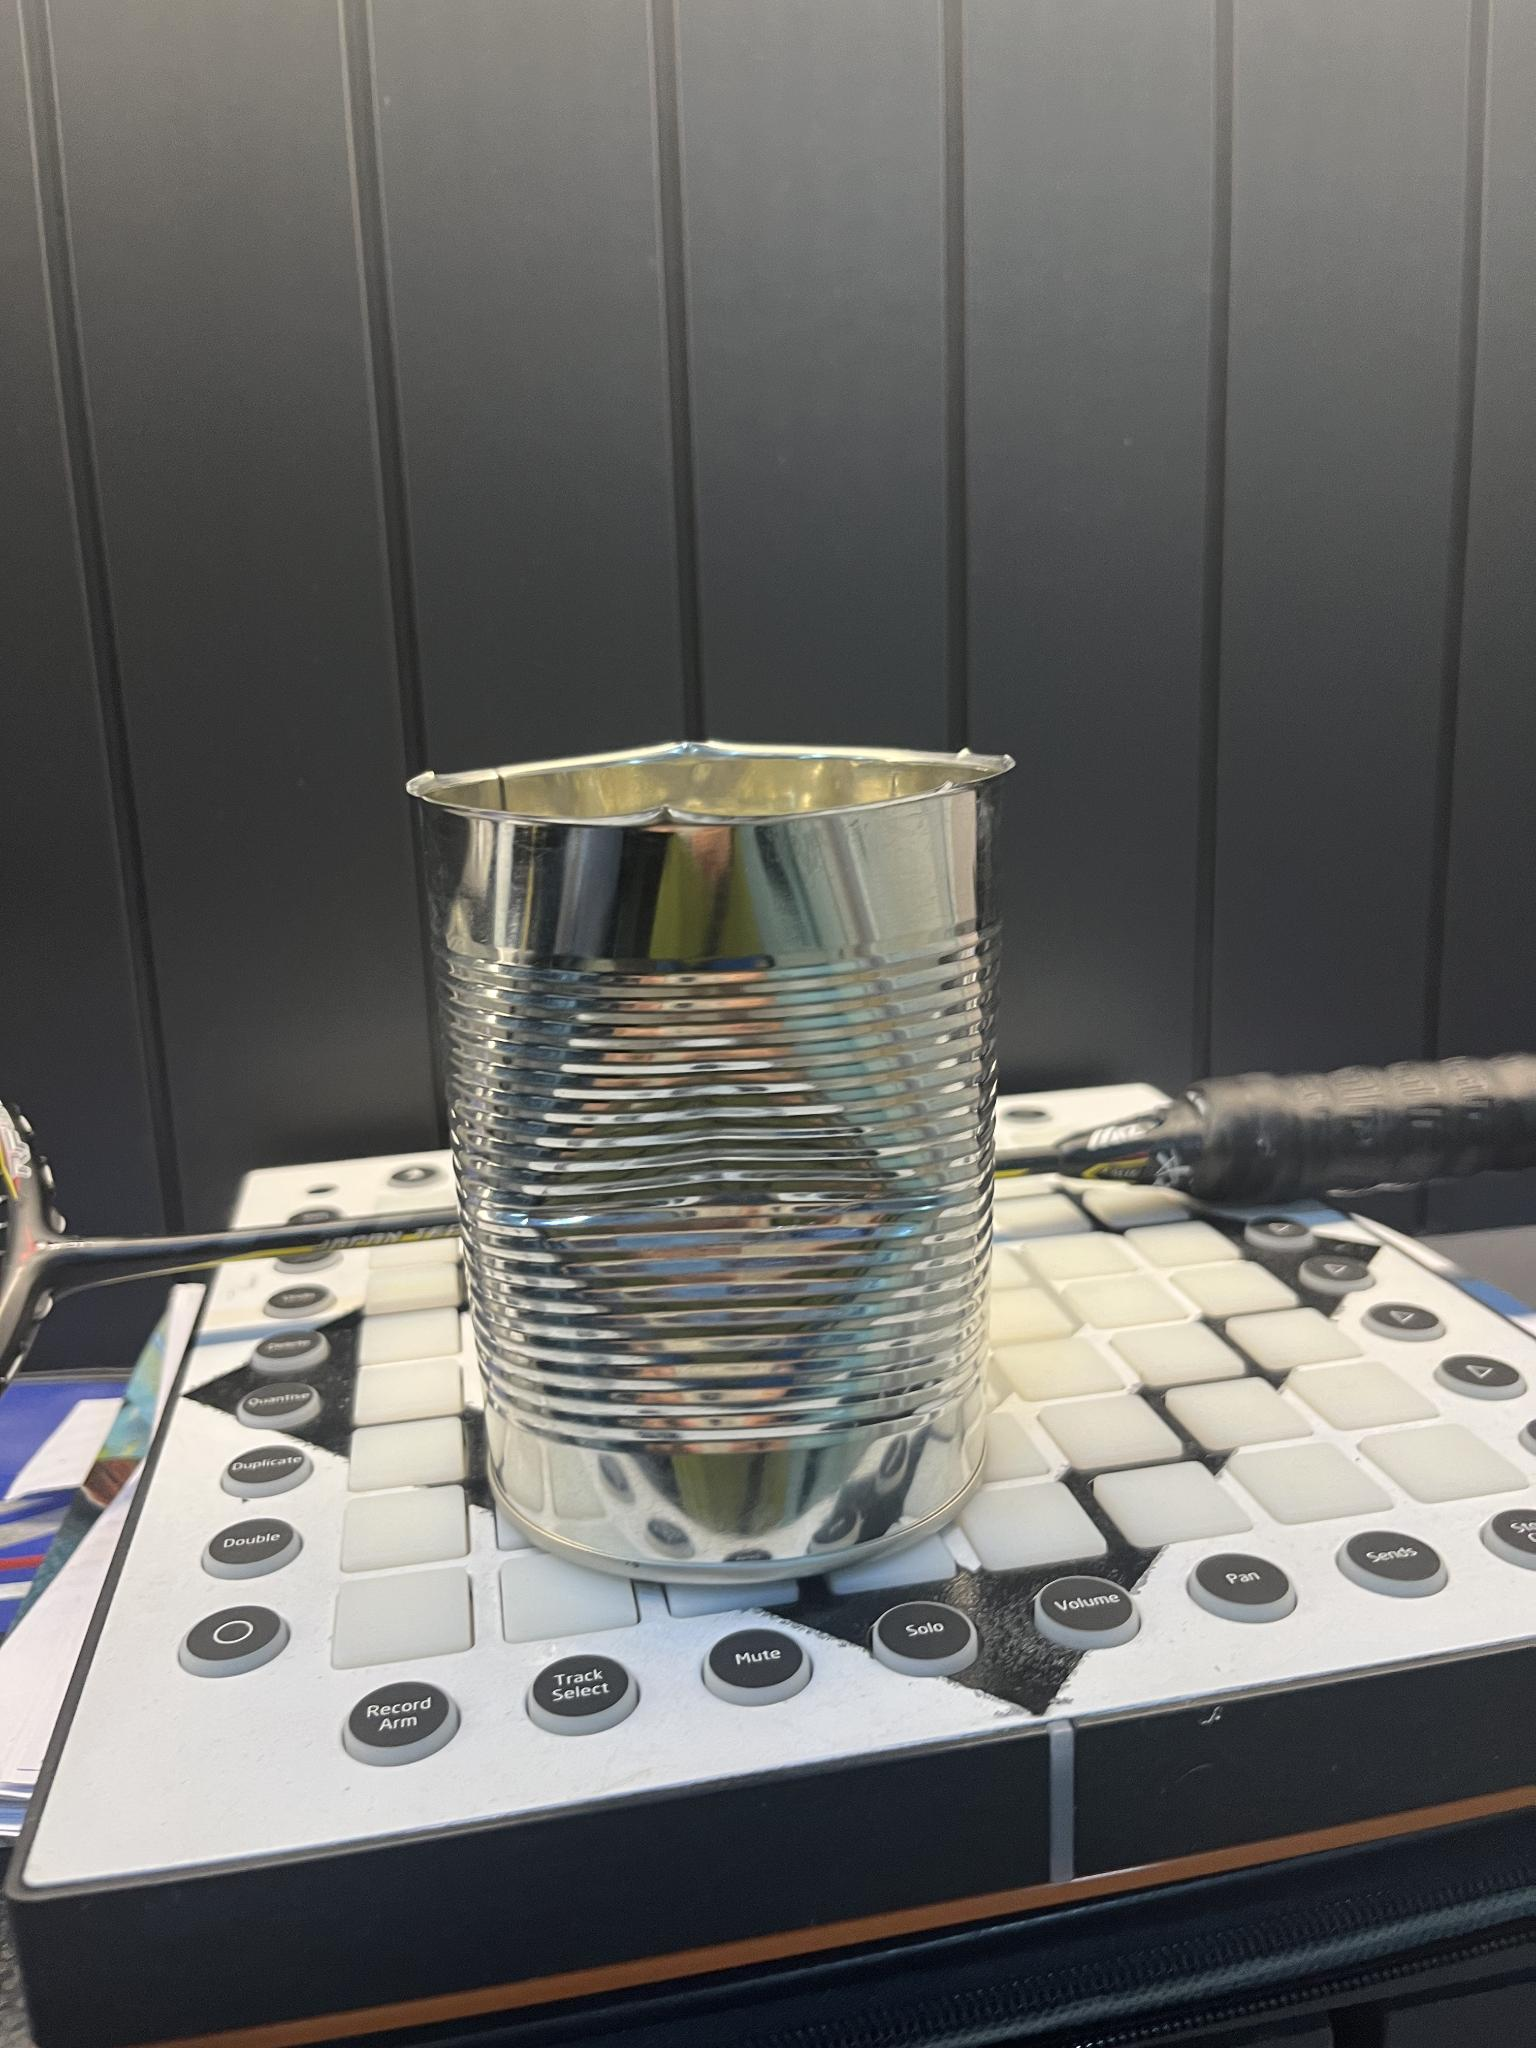metal: (408, 742, 1010, 1584)
